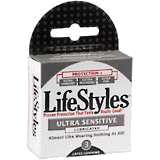grozi_91: (27, 0, 132, 160)
